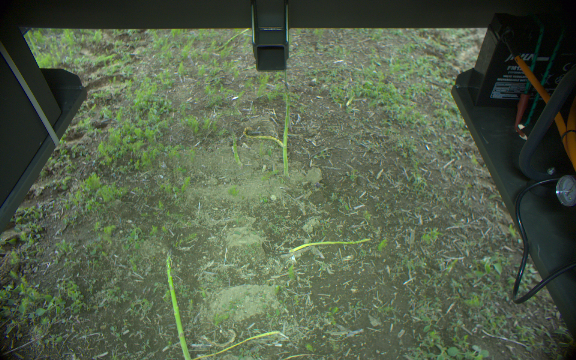aspa: (164, 250, 193, 360), (278, 79, 295, 175), (229, 132, 241, 166)
